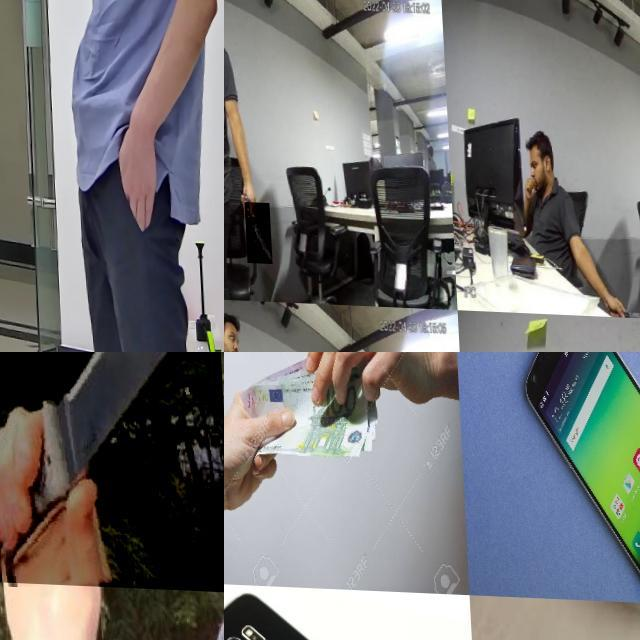-: (0, 352, 224, 589), (242, 201, 270, 263), (615, 296, 640, 312)
gun-knife-thesis - v11 Yolov5 augmented: (0, 0, 46, 36)
